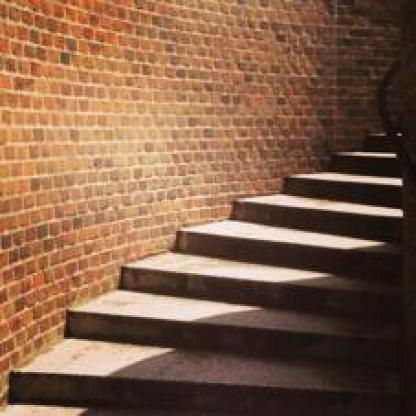stair_up: (27, 258, 336, 402)
